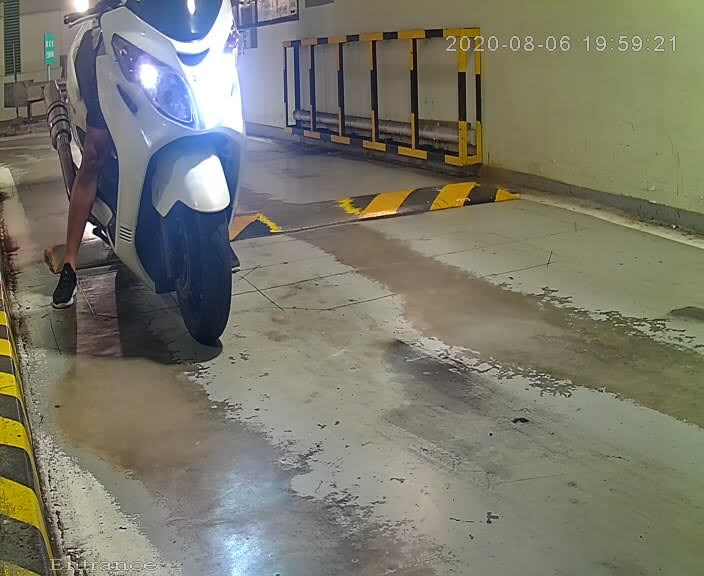motorcycle: (36, 1, 257, 354)
